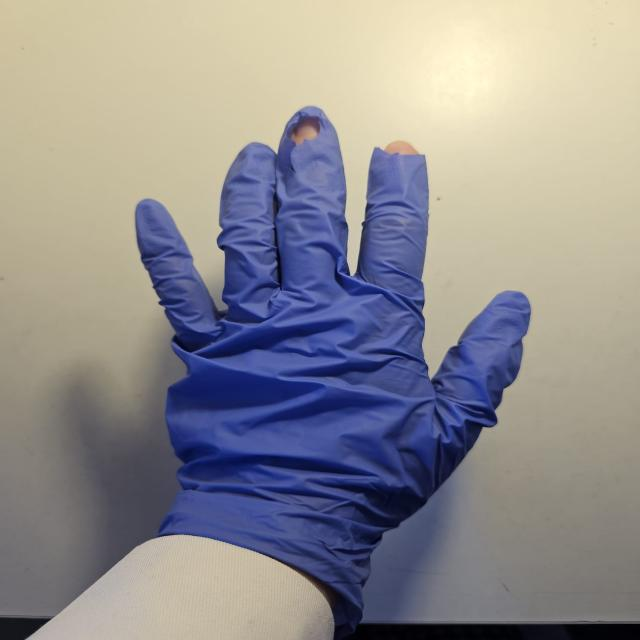gloves_damaged: (133, 104, 532, 534)
